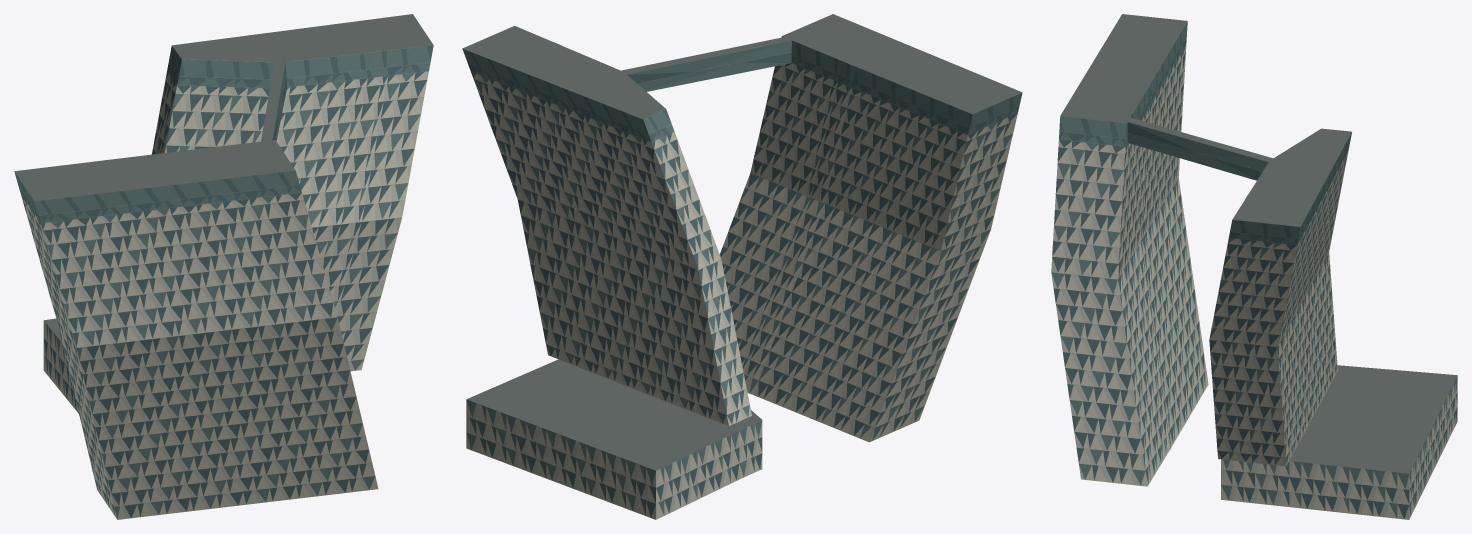
File: bella-sky-copenhagen-near.glb
3 renders of one model, left to right at view 1: azimuth 30°, elevation 25°; view 2: azimuth 150°, elevation 25°; view 3: azimuth 270°, elevation 25°, orthographic. The views are drawn at different scales.
Visible parts, largest first — view 1: bella-sky-copenhagen-0-panel, bella-sky-copenhagen-0-glass, bella-sky-copenhagen-0-panelShade, bella-sky-copenhagen-0-glassShade, bella-sky-copenhagen-0-roof, bella-sky-copenhagen-0-frame; view 2: bella-sky-copenhagen-0-panel, bella-sky-copenhagen-0-glass, bella-sky-copenhagen-0-panelShade, bella-sky-copenhagen-0-roof, bella-sky-copenhagen-0-glassShade, bella-sky-copenhagen-0-frame; view 3: bella-sky-copenhagen-0-panel, bella-sky-copenhagen-0-glass, bella-sky-copenhagen-0-roof, bella-sky-copenhagen-0-panelShade, bella-sky-copenhagen-0-glassShade, bella-sky-copenhagen-0-frame.
Boxes of the visible parts, bbox=[...] form: bella-sky-copenhagen-0-panel: bbox=[24, 72, 427, 519]; bella-sky-copenhagen-0-glass: bbox=[15, 45, 433, 517]; bella-sky-copenhagen-0-panelShade: bbox=[21, 71, 428, 518]; bella-sky-copenhagen-0-glassShade: bbox=[14, 46, 430, 519]; bella-sky-copenhagen-0-roof: bbox=[14, 14, 433, 342]; bella-sky-copenhagen-0-frame: bbox=[34, 45, 432, 506]; bella-sky-copenhagen-0-panel: bbox=[466, 63, 1017, 519]; bella-sky-copenhagen-0-glass: bbox=[468, 36, 1019, 517]; bella-sky-copenhagen-0-panelShade: bbox=[466, 63, 1016, 519]; bella-sky-copenhagen-0-roof: bbox=[462, 14, 1022, 470]; bella-sky-copenhagen-0-glassShade: bbox=[462, 36, 1022, 515]; bella-sky-copenhagen-0-frame: bbox=[466, 40, 1018, 503]; bella-sky-copenhagen-0-panel: bbox=[1052, 47, 1457, 519]; bella-sky-copenhagen-0-glass: bbox=[1052, 22, 1457, 518]; bella-sky-copenhagen-0-roof: bbox=[1060, 14, 1457, 473]; bella-sky-copenhagen-0-panelShade: bbox=[1051, 45, 1457, 519]; bella-sky-copenhagen-0-glassShade: bbox=[1051, 23, 1457, 518]; bella-sky-copenhagen-0-frame: bbox=[1051, 28, 1456, 504].
Bounding box in the file's own units: 109 × 76.5 × 87.69.
